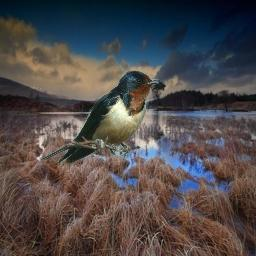Swallow: (40, 70, 159, 164)
